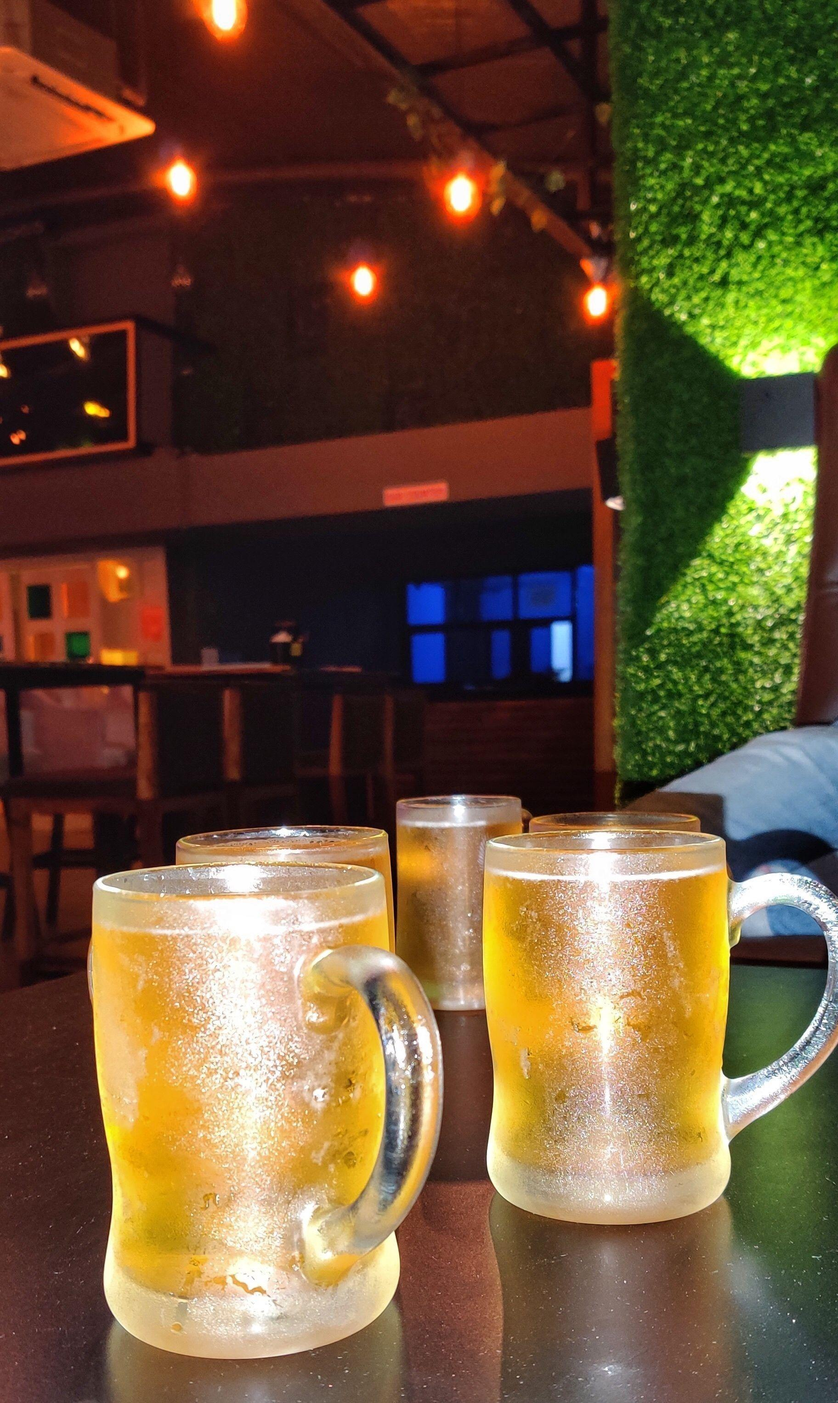glass-mug: (81, 826, 448, 1366), (473, 809, 838, 1228)
